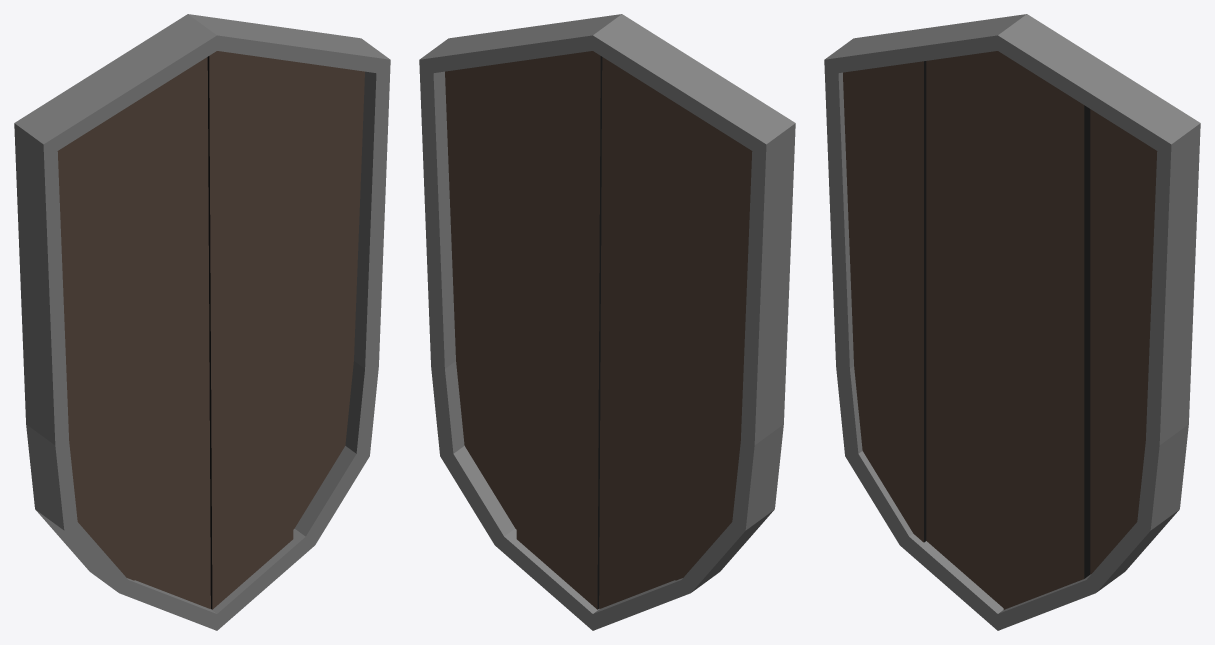
Rendered from WeaponShield.fbx.
3 renders of one model, left to right at view 1: azimuth 30°, elevation 25°; view 2: azimuth 150°, elevation 25°; view 3: azimuth 330°, elevation 25°, orthographic.
Parts seen in each view (by area): view 1: Shield; view 2: Shield; view 3: Shield.
Part boxes in pixels (left/top/right/bottom): Shield: left=14, top=14, right=390, bottom=630; Shield: left=419, top=14, right=795, bottom=630; Shield: left=824, top=14, right=1200, bottom=630.
Size of the model in its own units: 53.15 by 87.13 by 7.76.
